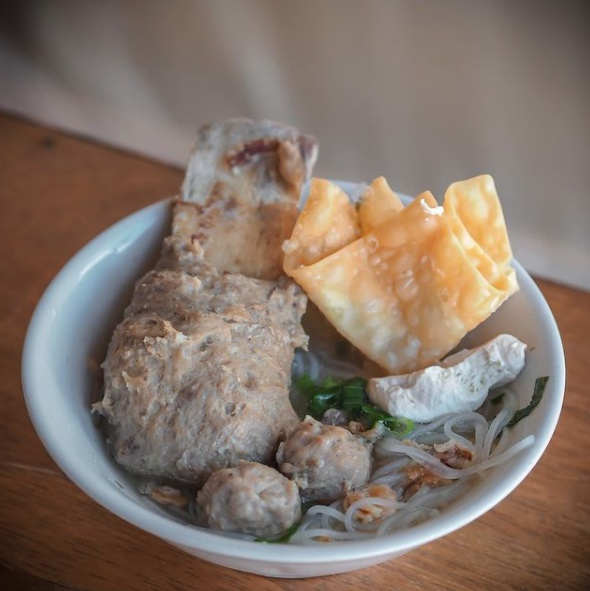bakso_malang: (93, 119, 547, 544)
